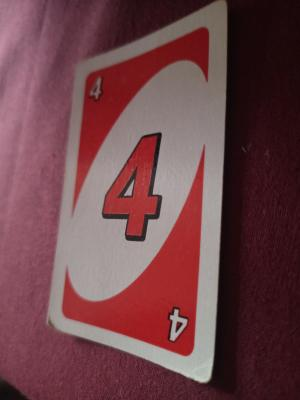num_4: (94, 125, 169, 245), (83, 72, 112, 107)
